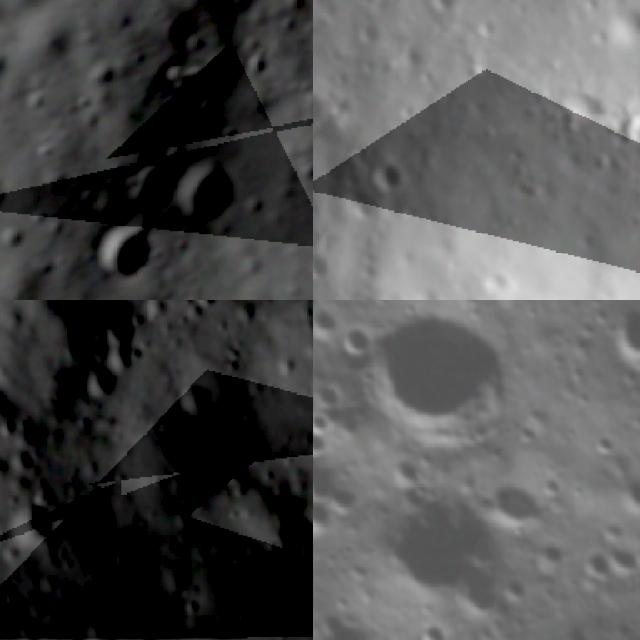crater: (337, 448, 543, 640), (335, 300, 538, 487), (474, 464, 554, 544), (91, 219, 156, 288), (180, 158, 238, 234), (593, 300, 640, 381), (5, 494, 59, 552), (318, 472, 373, 528), (379, 443, 430, 498), (128, 163, 181, 214), (313, 600, 378, 640), (573, 542, 621, 590), (327, 317, 376, 363), (313, 484, 344, 553), (164, 60, 216, 101), (580, 422, 626, 467), (368, 154, 417, 196), (88, 312, 148, 346), (493, 568, 538, 612), (532, 531, 576, 576), (171, 370, 216, 410), (269, 491, 308, 535), (532, 466, 572, 506), (611, 468, 640, 520), (608, 0, 640, 47), (508, 418, 546, 456), (158, 20, 195, 58), (405, 612, 454, 640), (604, 541, 640, 578), (594, 513, 630, 550), (84, 360, 118, 397), (163, 140, 197, 176), (313, 306, 343, 342), (550, 617, 593, 640), (355, 15, 389, 44), (313, 85, 332, 136), (313, 248, 338, 282), (313, 424, 331, 465), (313, 406, 333, 442)
